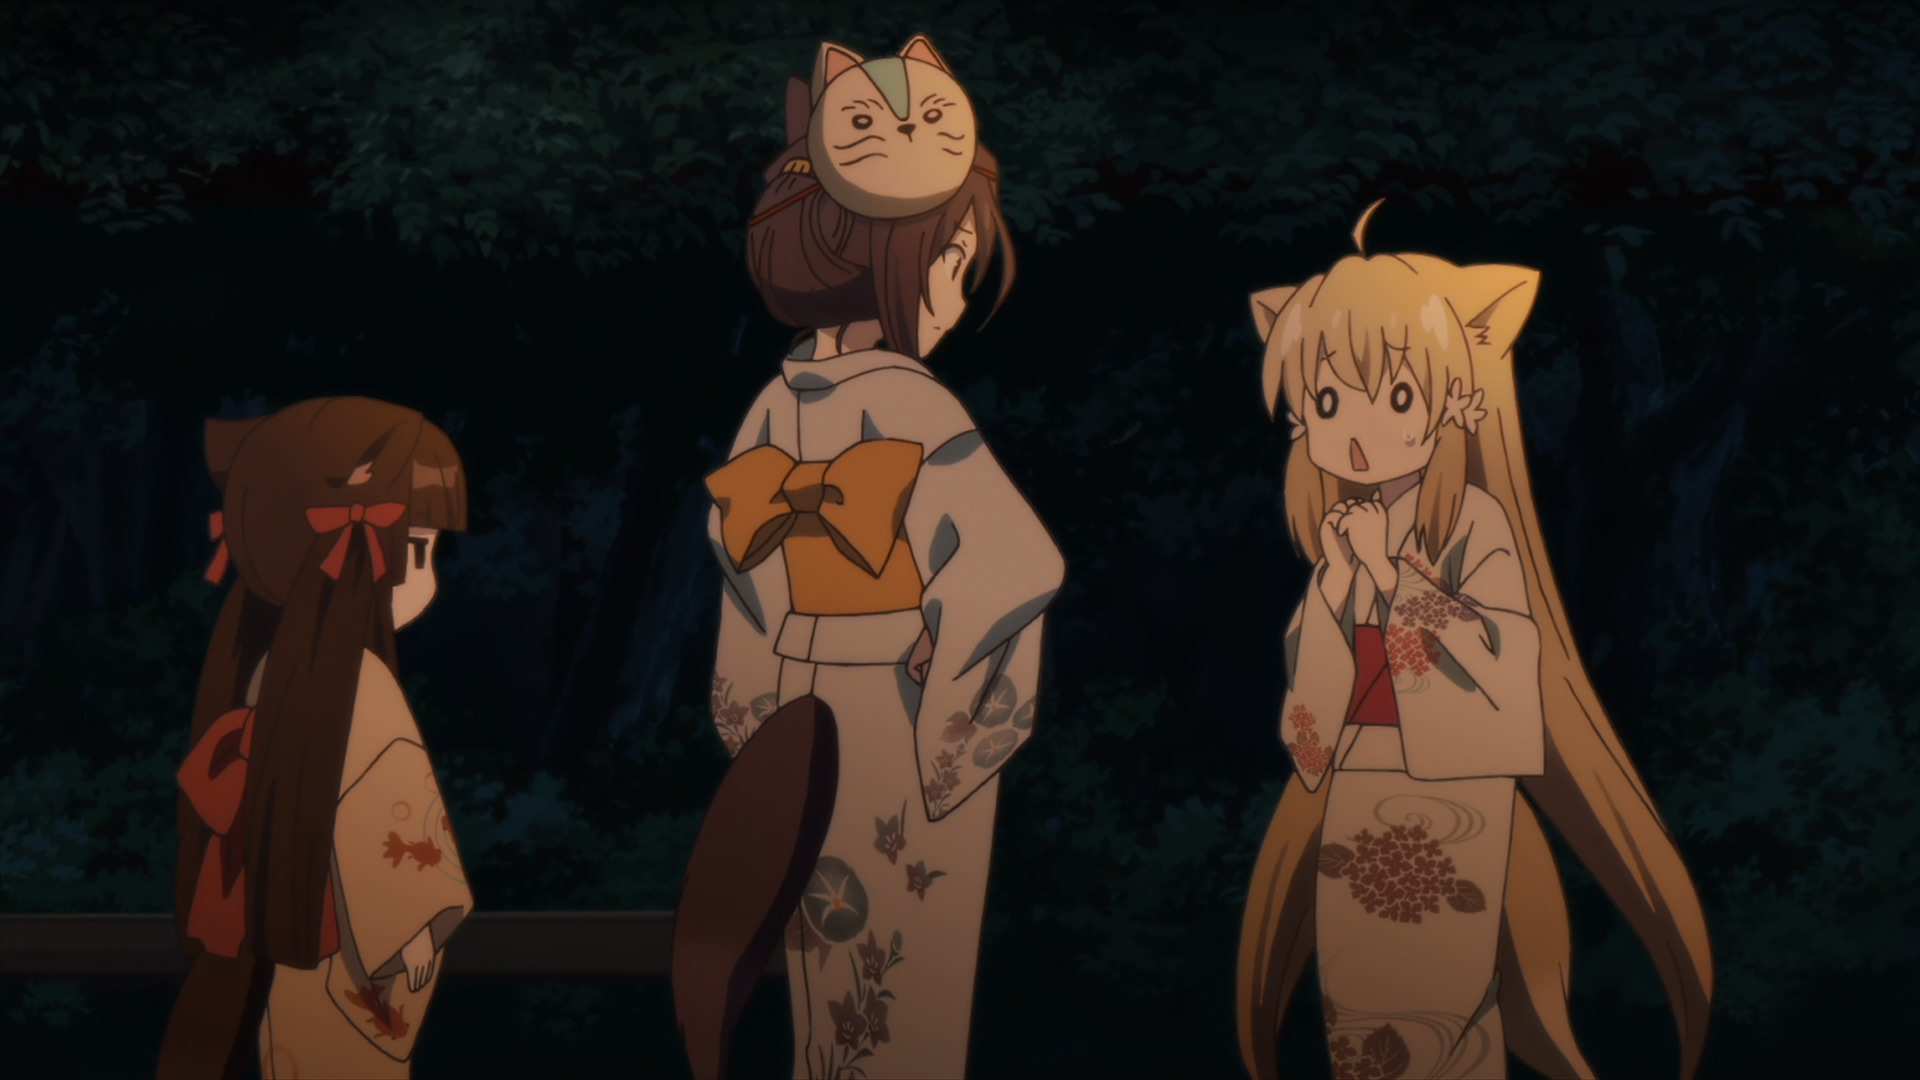柚: (1233, 200, 1714, 1080)
樱: (171, 396, 469, 1080)
皋: (673, 36, 1064, 1080)
